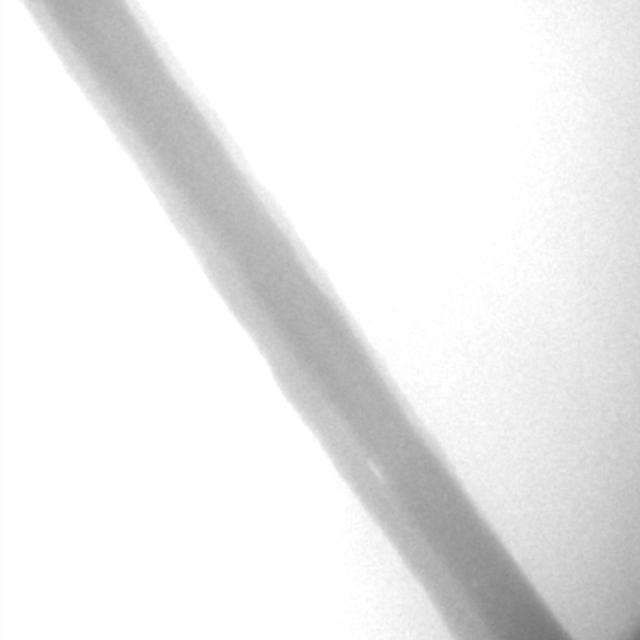air-hole: (368, 459, 378, 474), (476, 580, 479, 588)
broken-arc: (497, 540, 569, 640)
